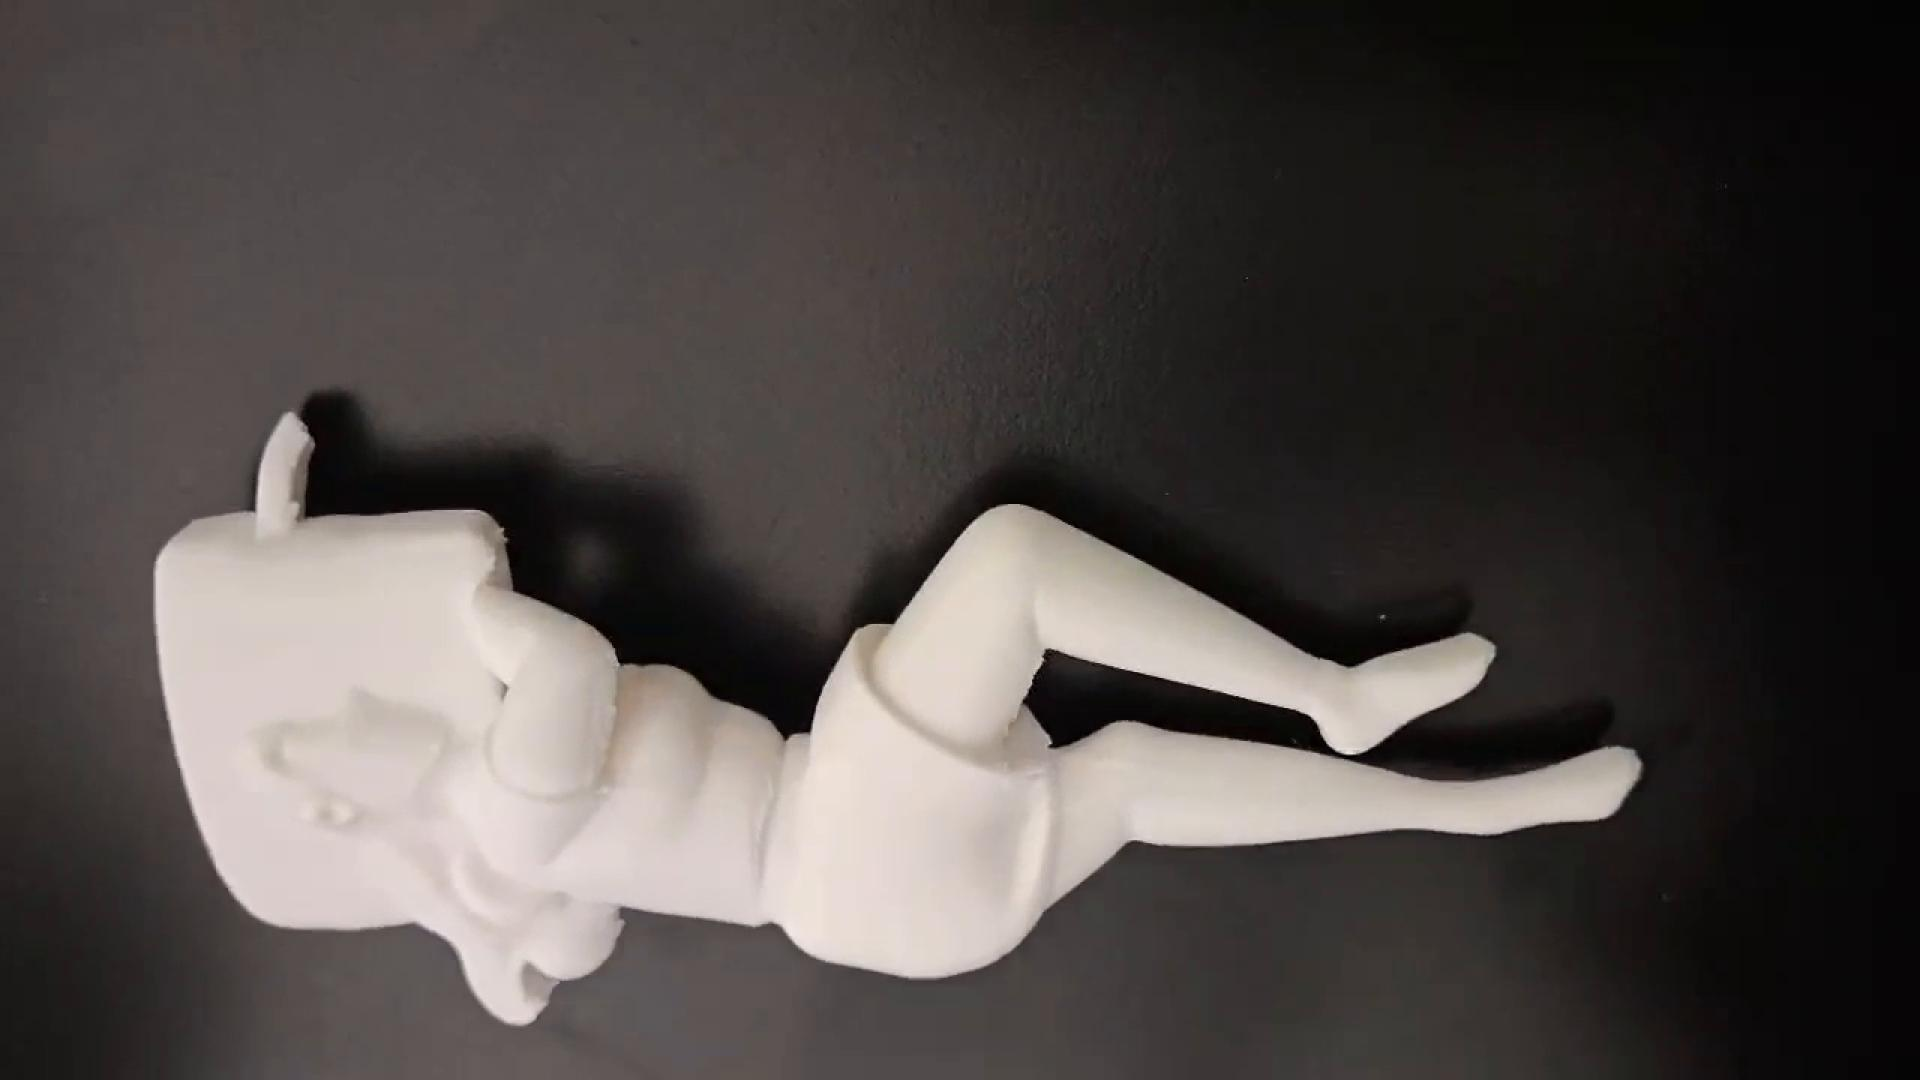Good-style: (146, 386, 1650, 1023)
